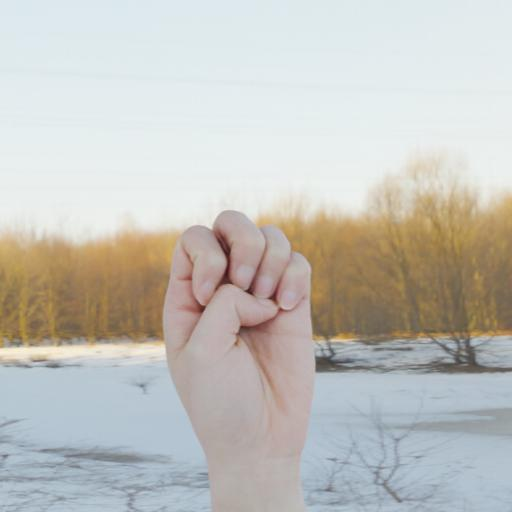E: (148, 196, 327, 506)
